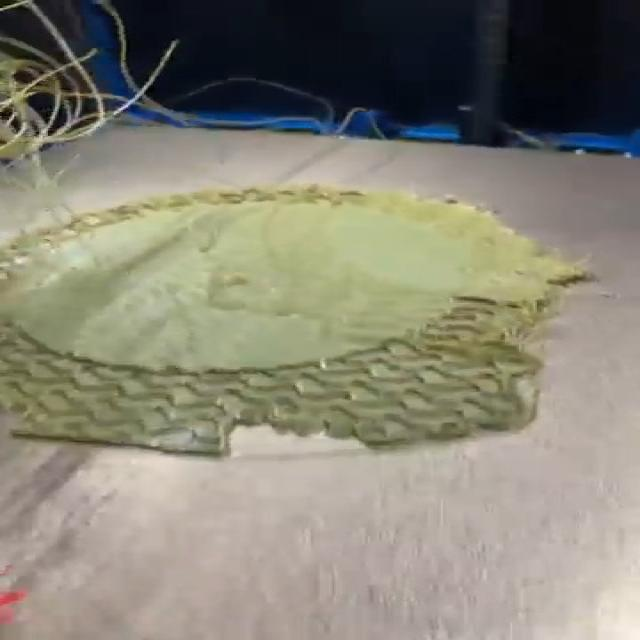spaghetti: (0, 0, 130, 173)
